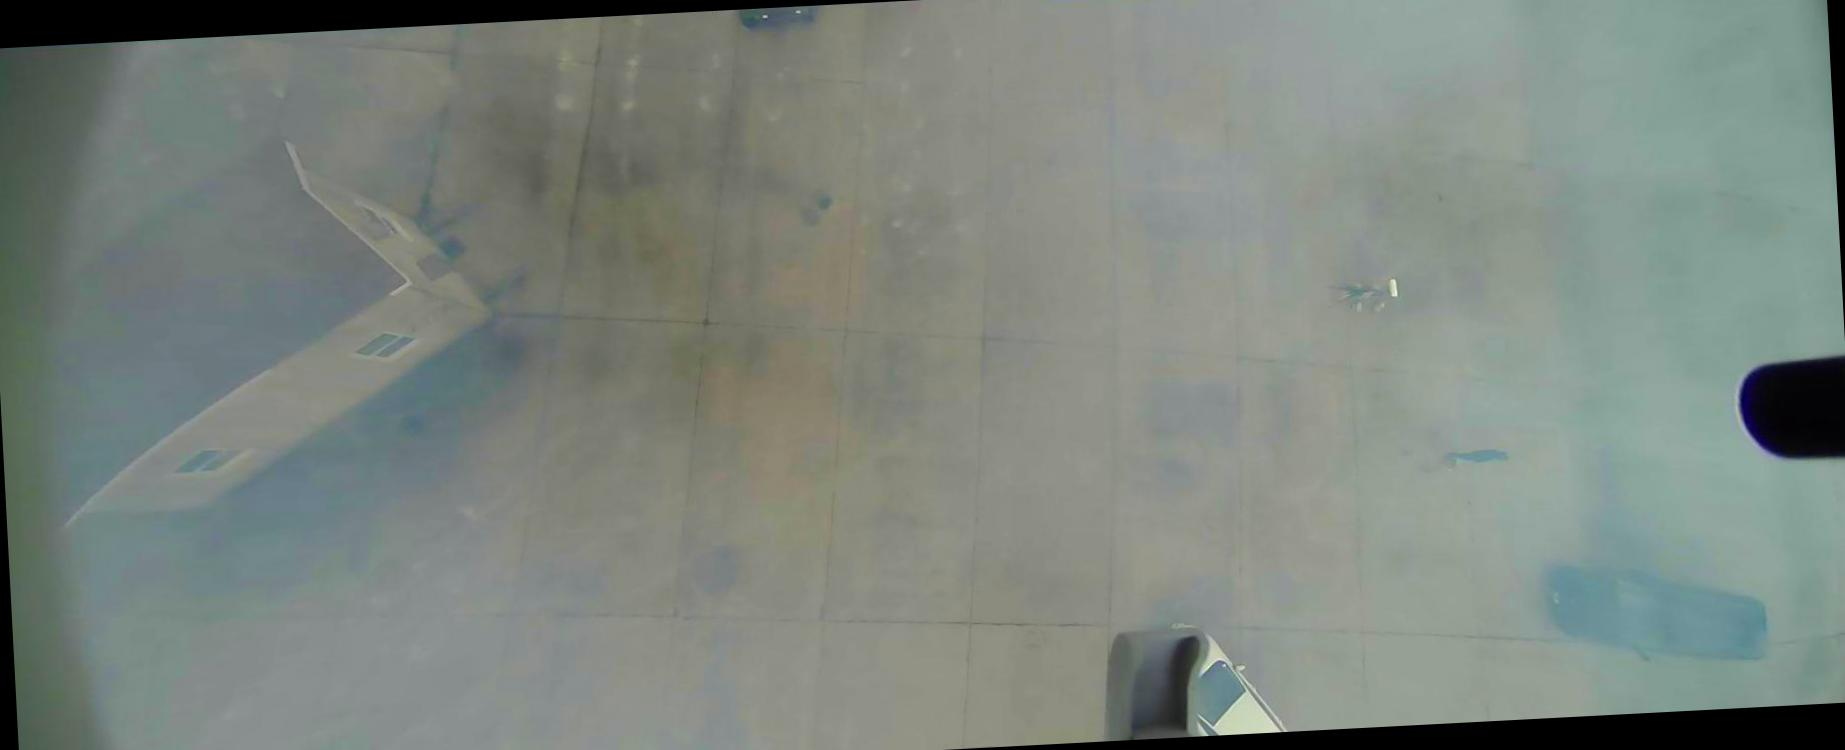vehicle: (1549, 554, 1768, 674), (1168, 616, 1288, 736)
